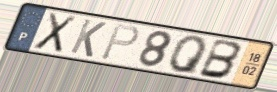8: (136, 30, 174, 68)
B: (196, 38, 244, 81)
K: (68, 17, 109, 59)
P: (98, 23, 142, 62)
Q: (167, 35, 209, 76)
X: (30, 11, 79, 55)
